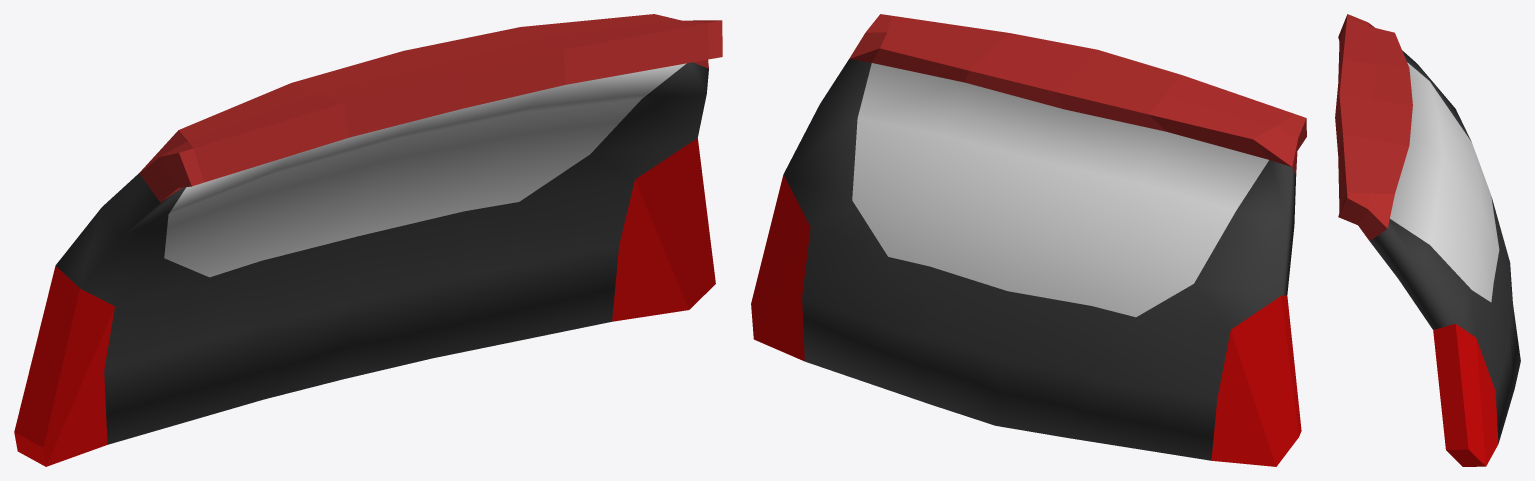
File: hatch_vw-up.fbx
3 views of the same model, side by side, from view 1: azimuth 30°, elevation 25°; view 2: azimuth 150°, elevation 25°; view 3: azimuth 270°, elevation 25° (orthographic). The views are drawn at different scales.
Parts seen in each view (by area): view 1: hatch; view 2: hatch; view 3: hatch.
Boxes of the visible parts, x1,y1,x2,y2 form: hatch: (14, 14, 722, 466); hatch: (751, 14, 1306, 466); hatch: (1335, 14, 1520, 466).
Size of the model in its own units: 263 by 139 by 87.24.
